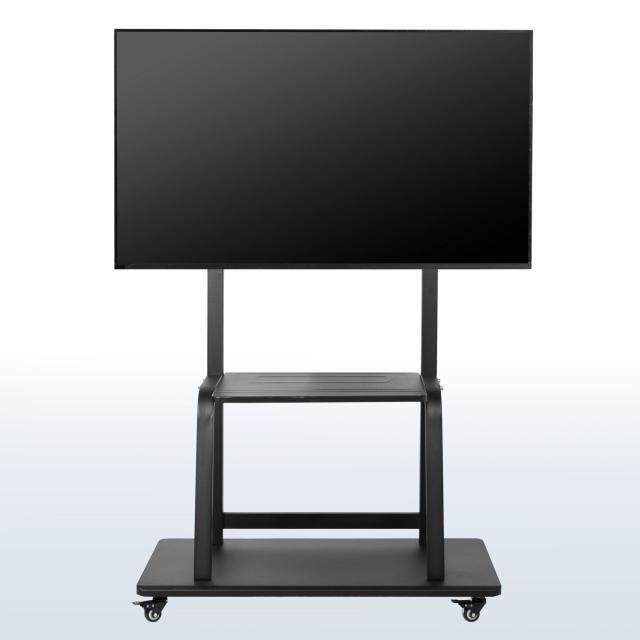electronics: (116, 30, 532, 621), (115, 30, 532, 268)
